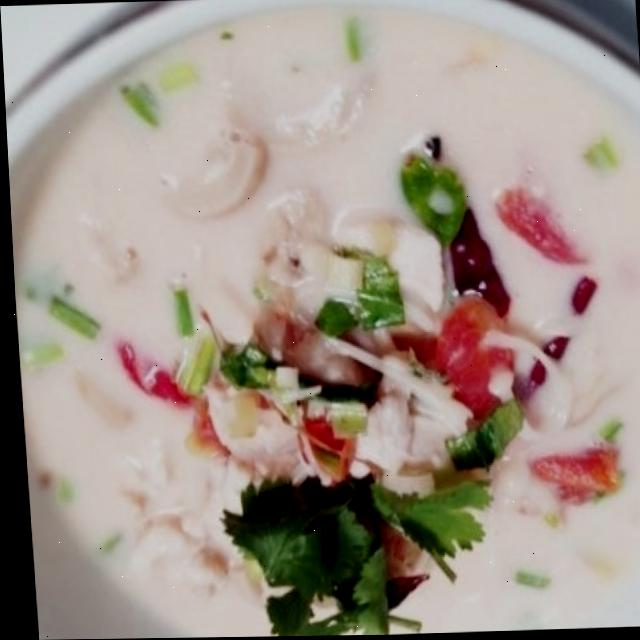汤锅炖物: (23, 8, 640, 640)
